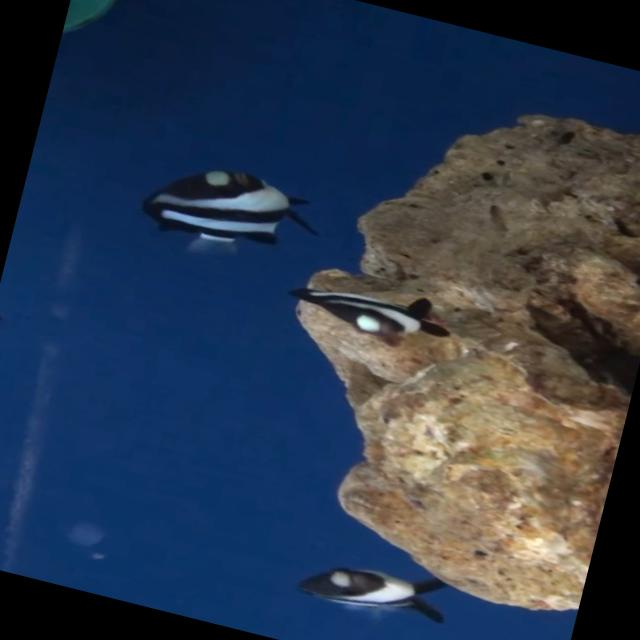ThreeStripedDamselfish: (142, 168, 319, 256), (297, 566, 444, 623)
